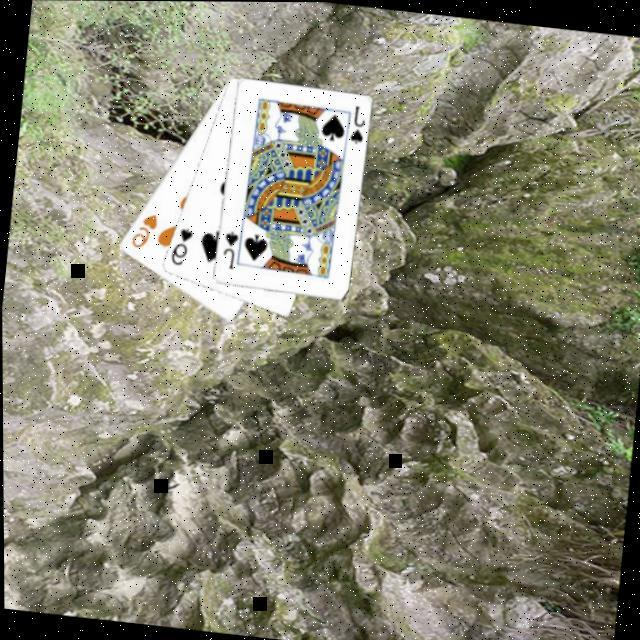6S: (168, 223, 197, 269)
9H: (128, 208, 162, 253)
JS: (219, 228, 243, 273), (347, 102, 369, 147)
